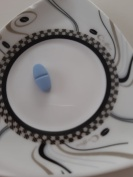Majezik: (32, 62, 53, 92)
